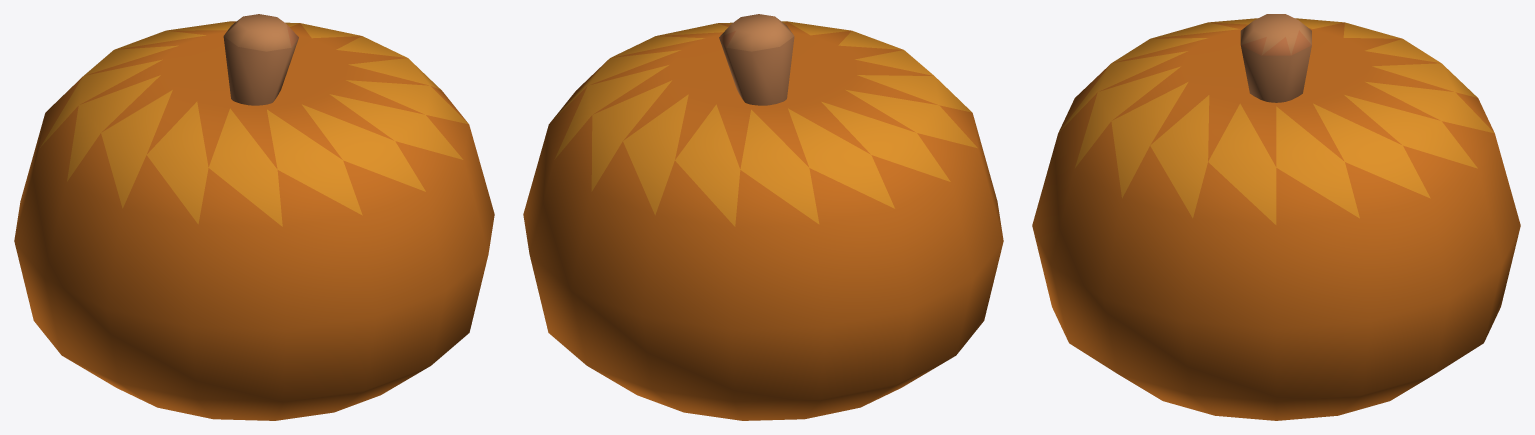
The model's file is itch_tiny_pleasant_picnic_apple.glb.
The picture shows the model from 3 angles, left to right: view 1: azimuth 30°, elevation 25°; view 2: azimuth 150°, elevation 25°; view 3: azimuth 270°, elevation 25°; orthographic projection.
Visible parts, largest first — view 1: apple; view 2: apple; view 3: apple.
Part boxes in pixels (x1,y1,x2,y2): apple: (14, 14, 494, 420); apple: (523, 14, 1003, 420); apple: (1032, 14, 1520, 420).
Size of the model in its own units: 0.42 by 0.3403 by 0.42.
